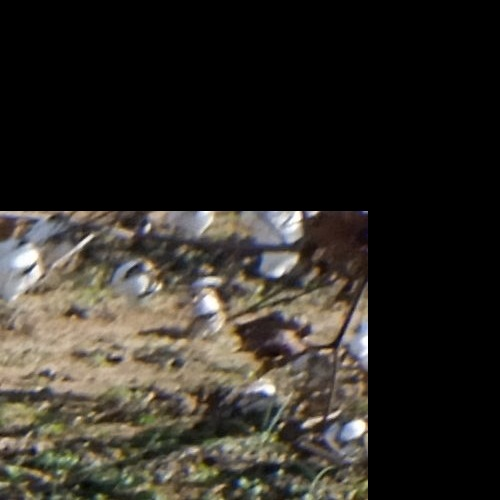immature_boll: (238, 371, 295, 440)
mature_boll: (182, 256, 230, 343), (4, 235, 52, 309), (107, 250, 161, 302)
